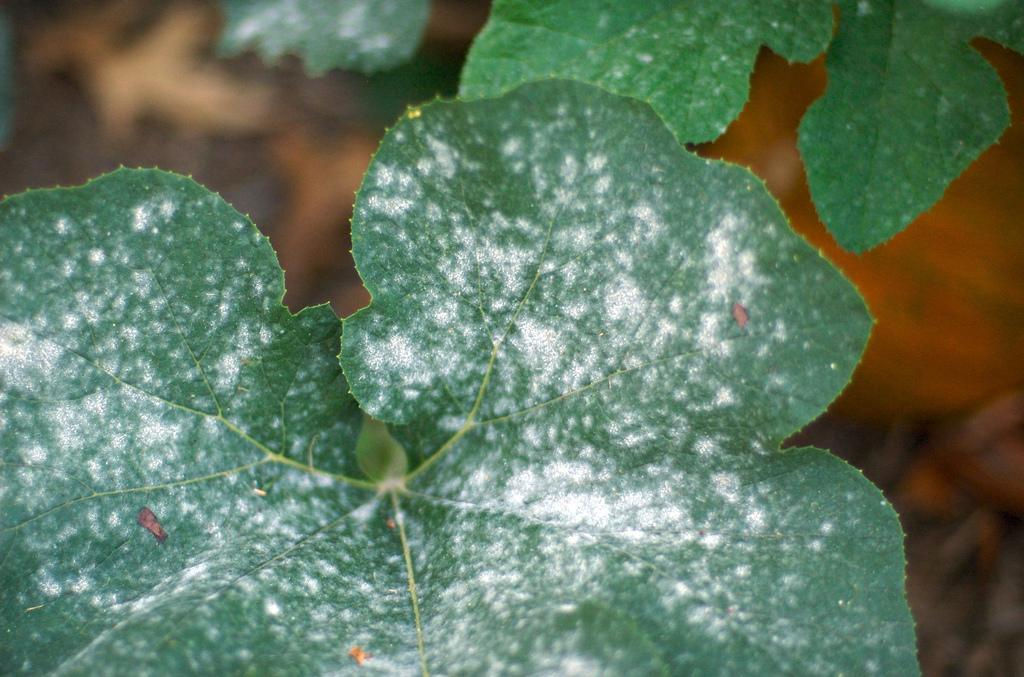Squash Powdery mildew leaf: (1, 76, 917, 672)
